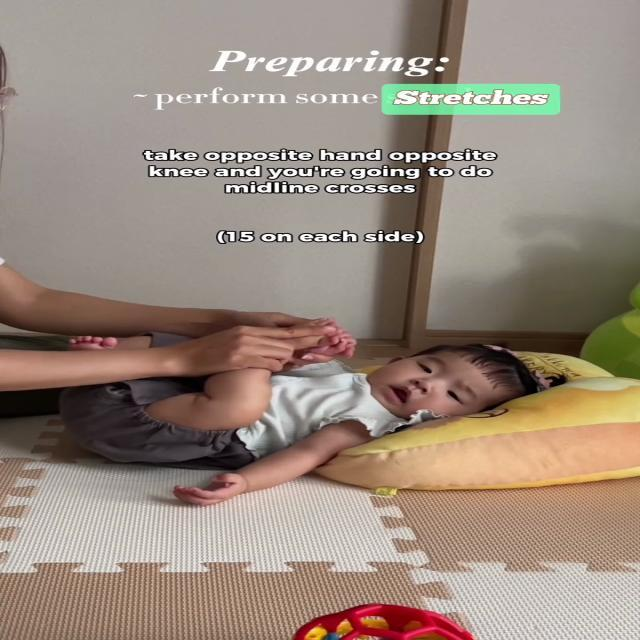baby: (53, 319, 567, 505)
